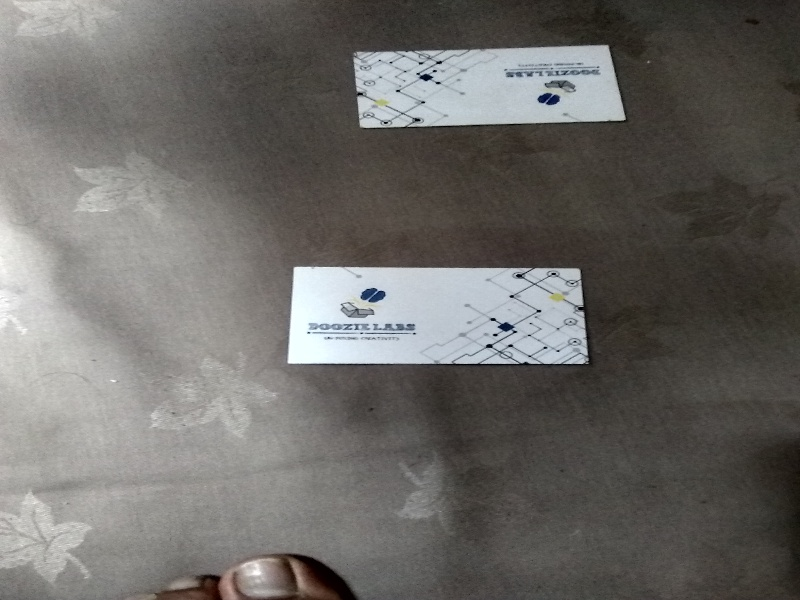back: (279, 261, 596, 372), (349, 47, 633, 126)
